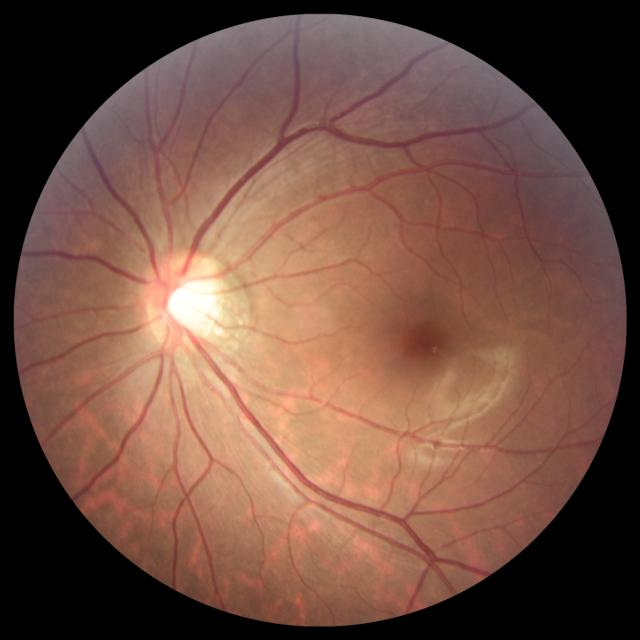OC: (168, 280, 215, 328)
OD: (143, 253, 224, 351)
